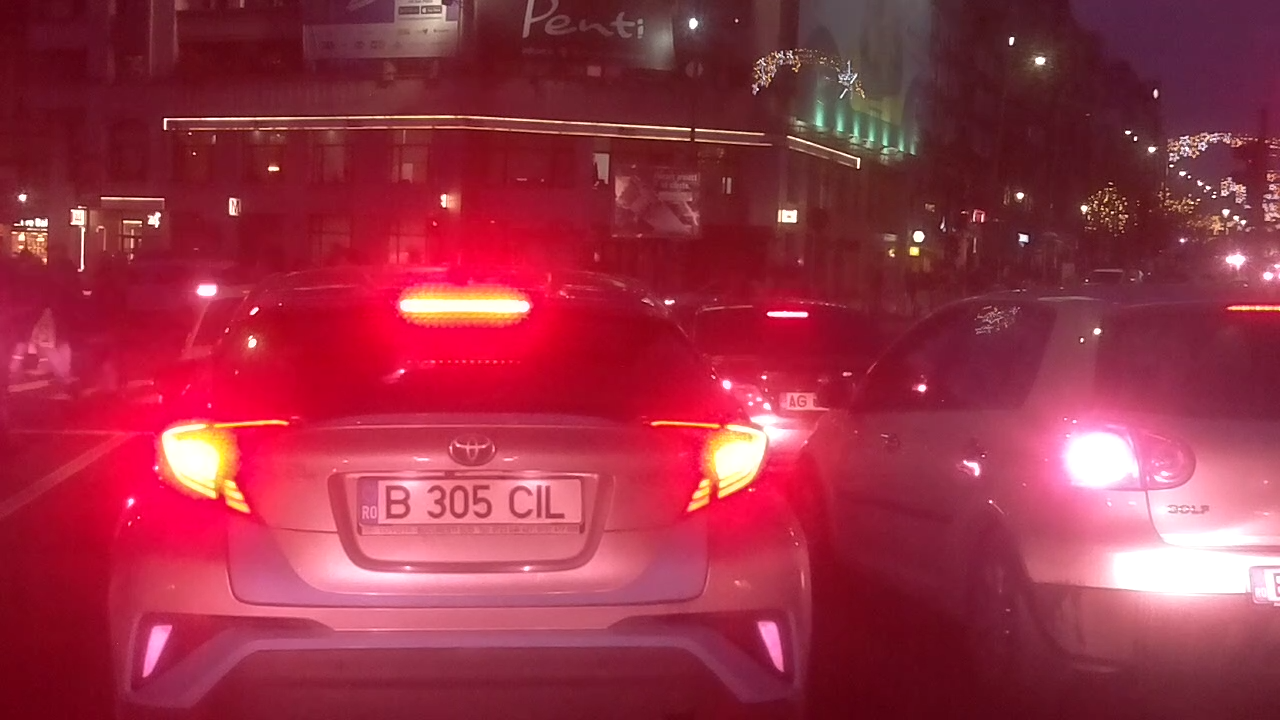license-plate: (352, 470, 589, 531)
